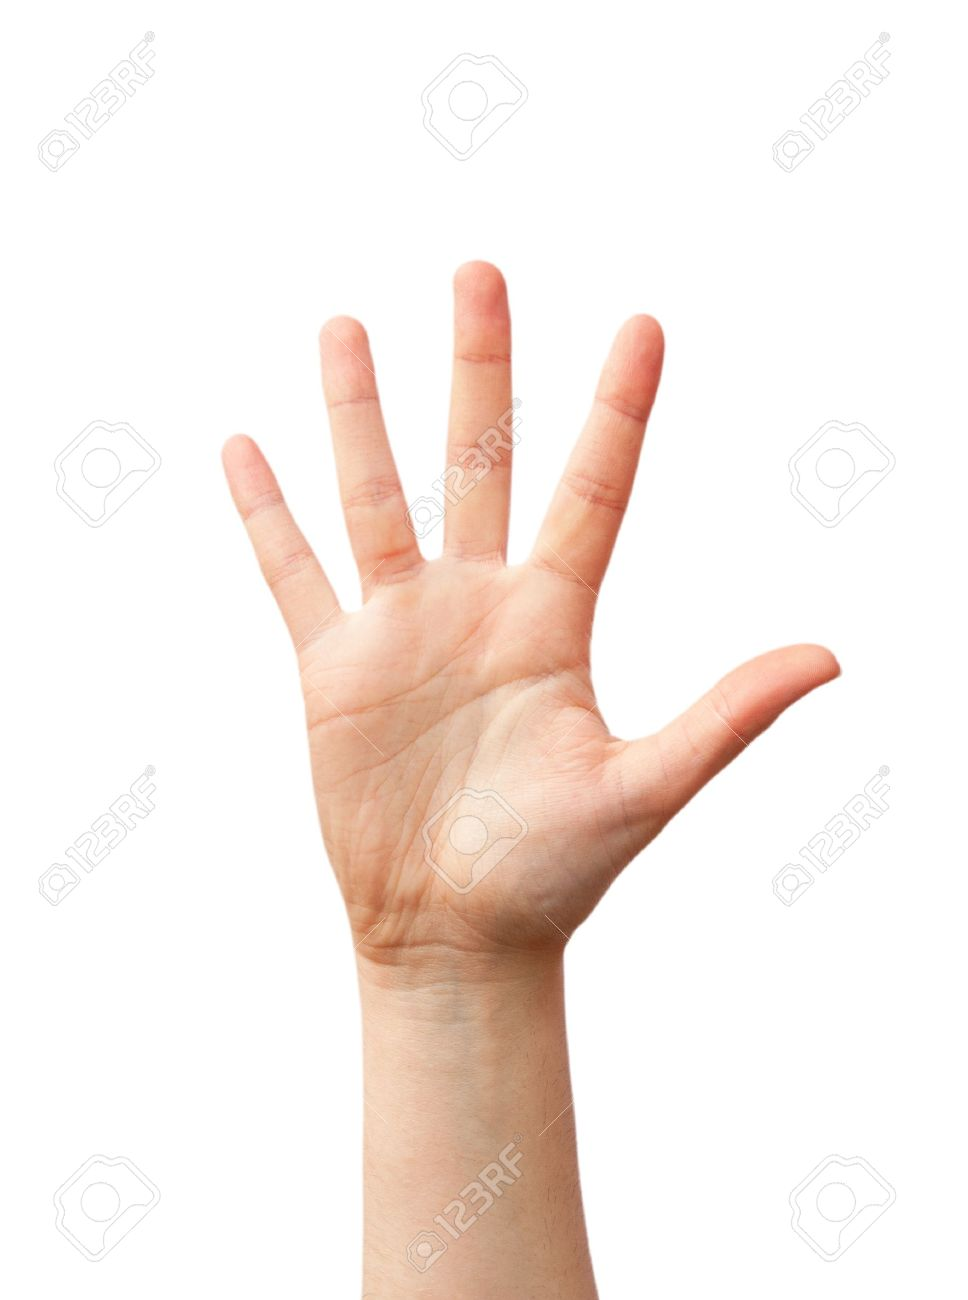open_hand: (183, 237, 878, 975)
